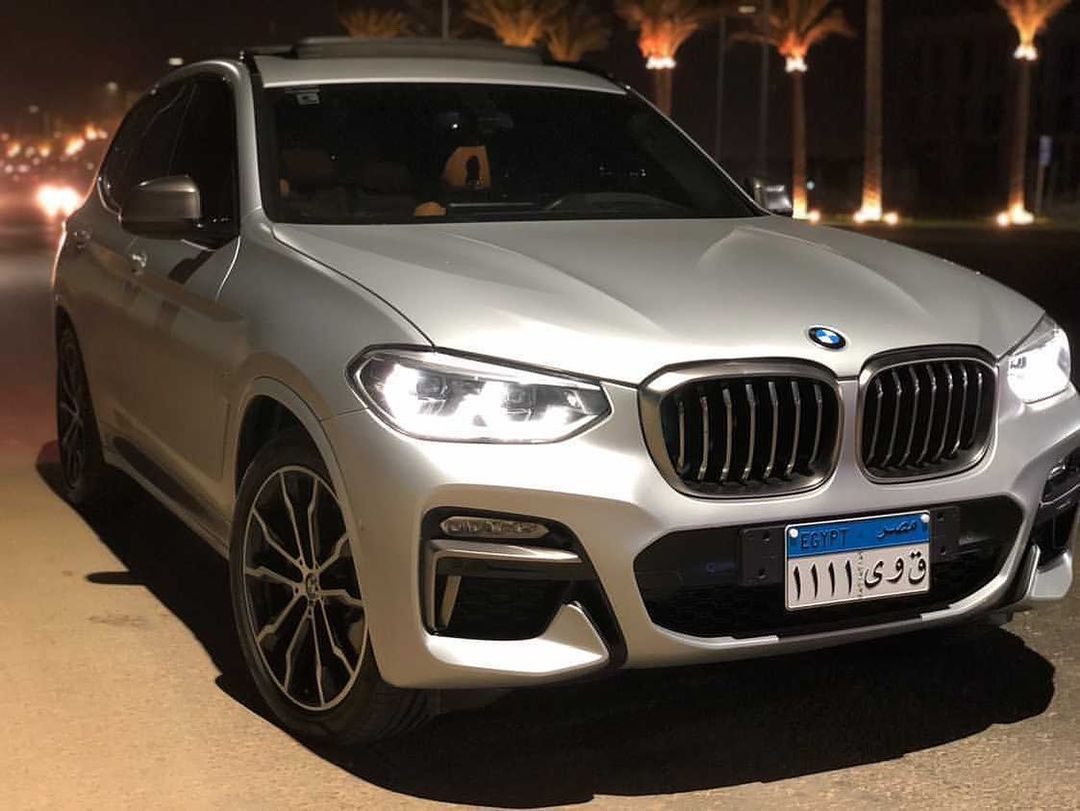carpl: (769, 516, 957, 616)
